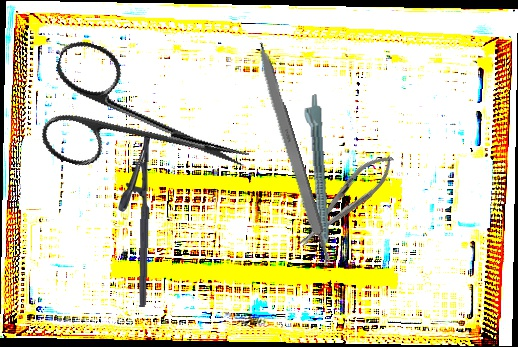Handpiece: (300, 94, 333, 266)
Iris Scissors: (29, 35, 267, 215)
Needle Holder: (289, 145, 403, 256), (114, 130, 153, 308)
Scalpel Handle: (250, 38, 335, 269)
